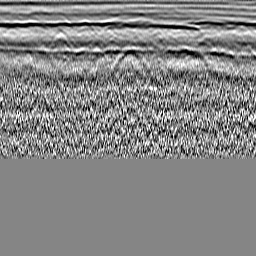cavity: (110, 43, 147, 71)
